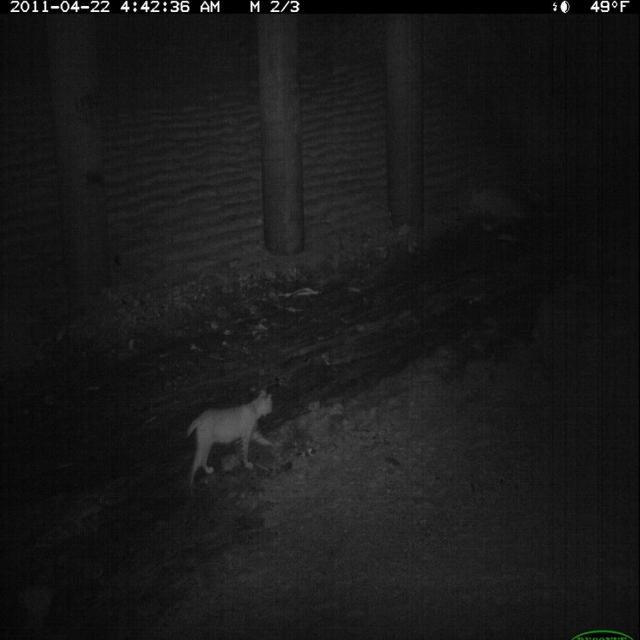bobcat: (183, 387, 279, 496)
